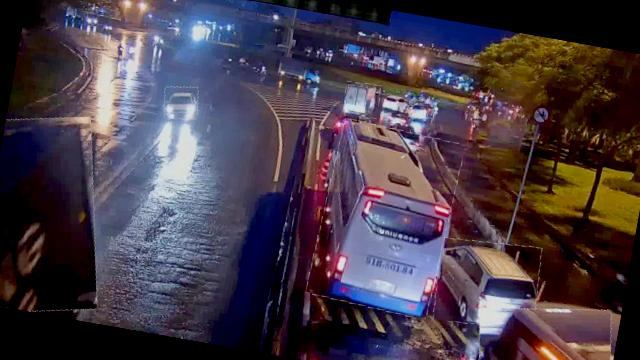Bus: (306, 117, 464, 318), (469, 293, 620, 360)
Car: (430, 232, 546, 334), (162, 83, 202, 122), (407, 98, 435, 121)
Truck: (0, 106, 118, 320), (342, 80, 382, 120)
